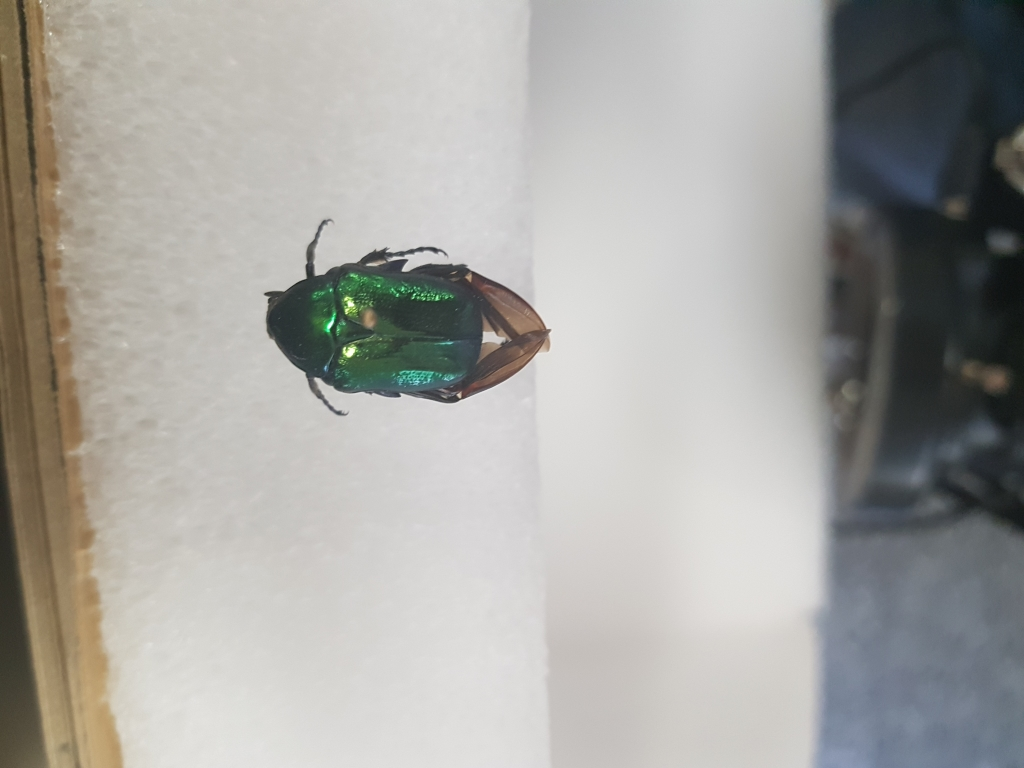Protaetia_angustata_angustata: (254, 219, 496, 422)
